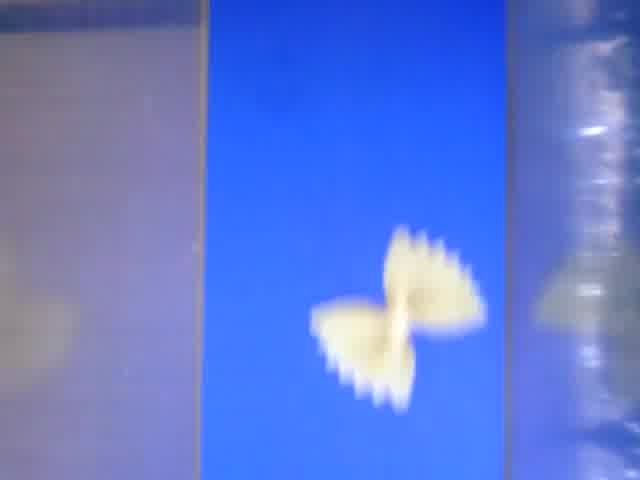farfalle: (311, 228, 487, 410)
